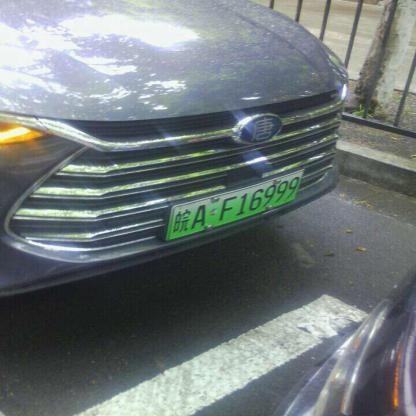lp: (168, 169, 302, 238)
